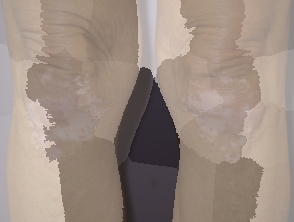vitiligo: (128, 0, 294, 194), (0, 30, 148, 198)
